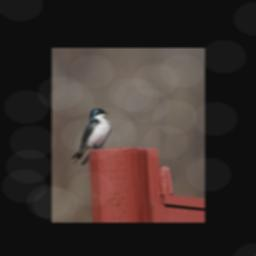Swallow: (71, 107, 112, 164)
